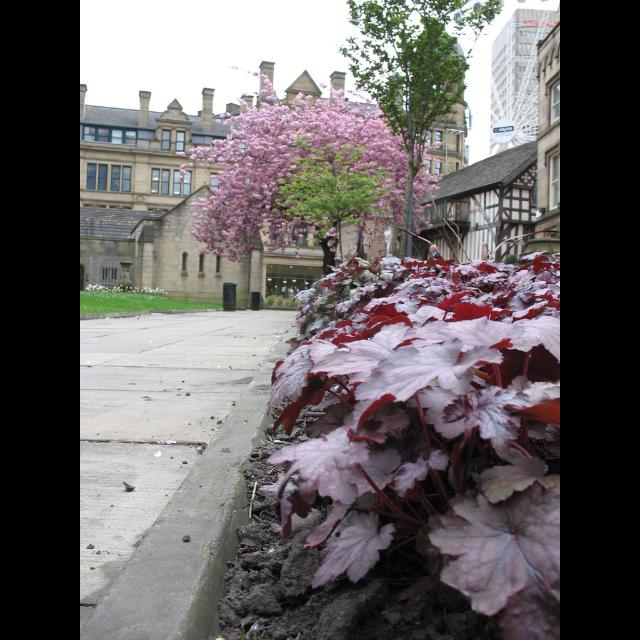Flower: (174, 62, 454, 264), (82, 282, 172, 294)
